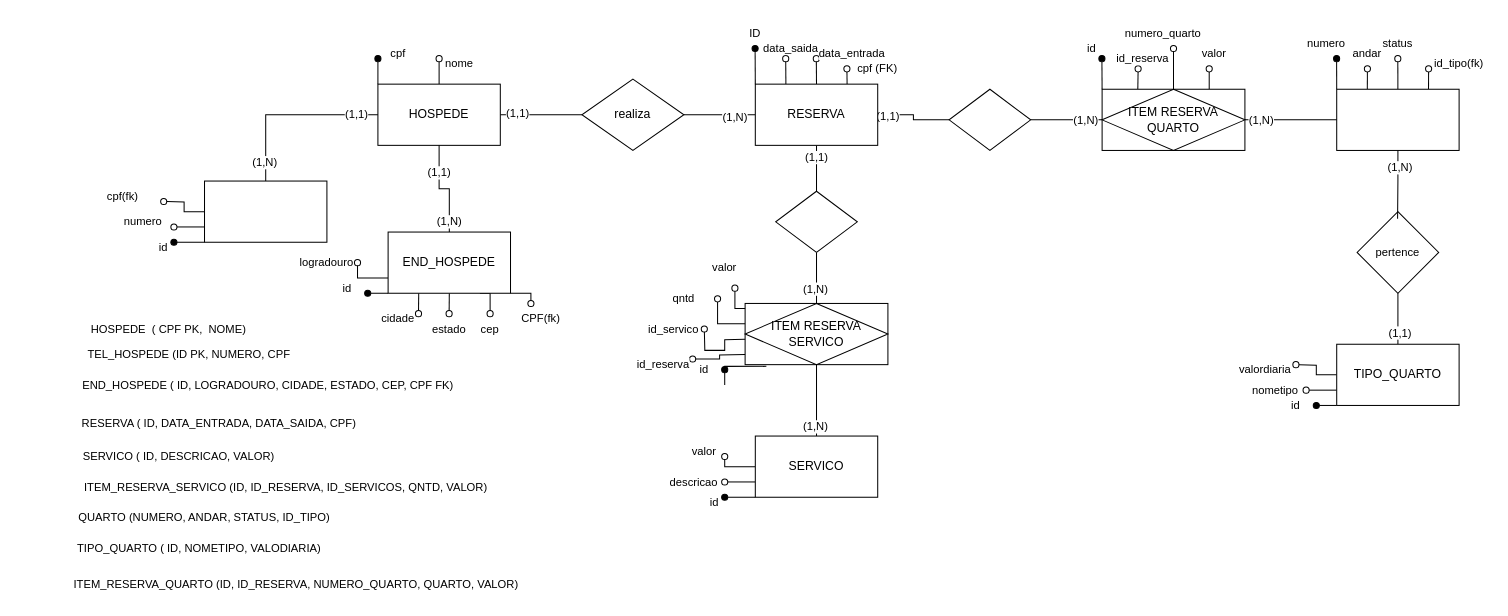
The diagram is 1508 pixels wide and 616 high, and some of its shapes have lost their labels. The box of each missing label's shape, as (x1, y1, x2, y2) in pixels:
inclui: (775, 190, 857, 252)
possui: (948, 88, 1031, 150)
QUARTO: (1336, 88, 1459, 150)
TEL_HOSPEDE: (203, 180, 327, 242)
